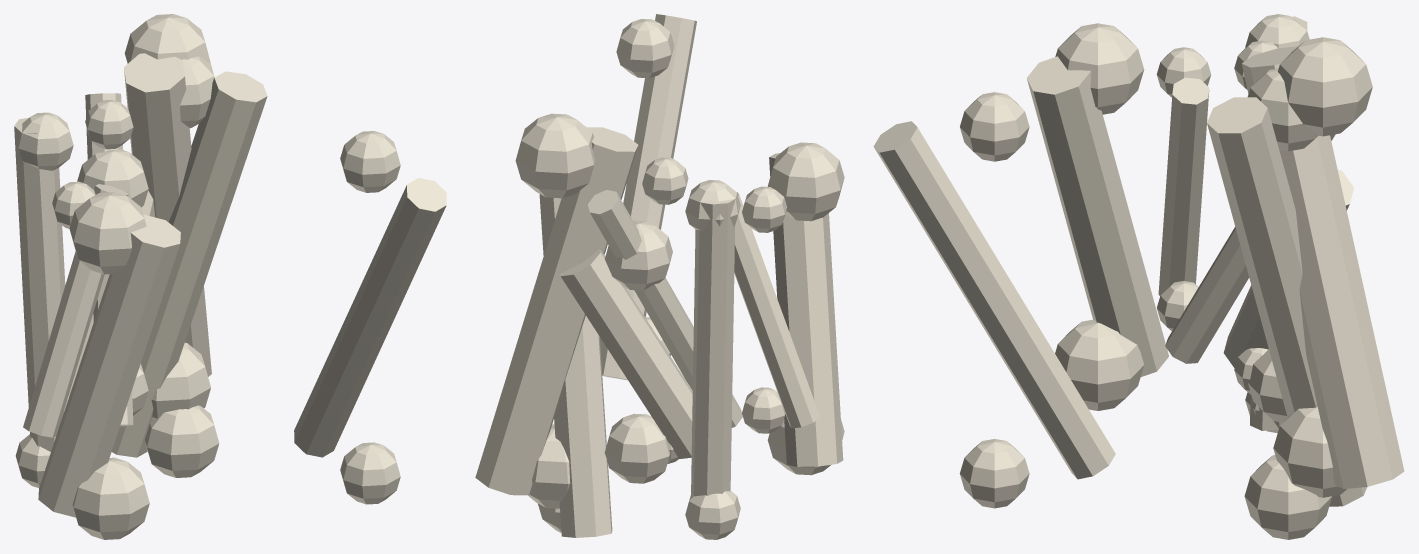
The model's file is bone_pile.glb.
3 renders of one model, left to right at view 1: azimuth 30°, elevation 25°; view 2: azimuth 150°, elevation 25°; view 3: azimuth 270°, elevation 25°, orthographic. The views are drawn at different scales.
Visible parts, largest first — view 1: bone_pile; view 2: bone_pile; view 3: bone_pile.
Part boxes in pixels (box(x1,y1,x2,y2)): bone_pile: box(14, 14, 446, 539); bone_pile: box(475, 14, 844, 539); bone_pile: box(873, 14, 1404, 539).
Bounding box in the file's own units: 0.0636 × 0.091 × 0.0884.
